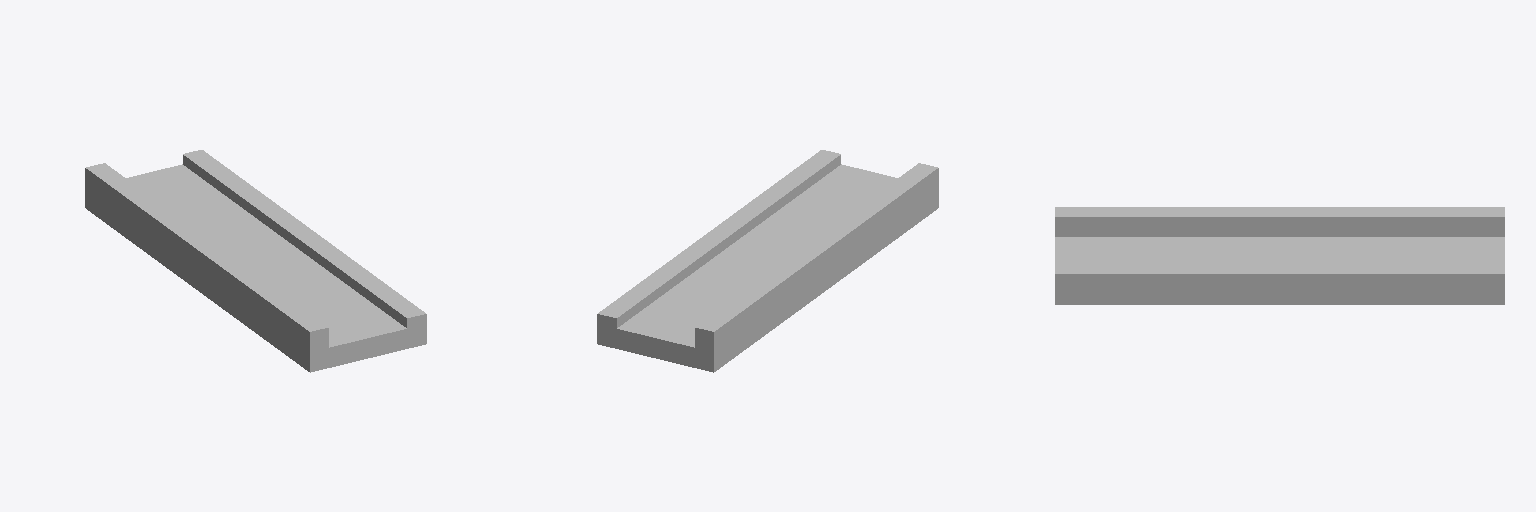
The model's file is sidewalk.obj.
3 views of the same model, side by side, from view 1: azimuth 30°, elevation 25°; view 2: azimuth 150°, elevation 25°; view 3: azimuth 270°, elevation 25° (orthographic).
Visible parts, largest first — view 1: object 1; view 2: object 1; view 3: object 1.
Boxes of the visible parts, x1=… form: object 1: x1=85, y1=150, x2=426, y2=372; object 1: x1=597, y1=150, x2=938, y2=372; object 1: x1=1055, y1=207, x2=1504, y2=304.
Size of the model in its own units: 1.2 by 0.4 by 4.